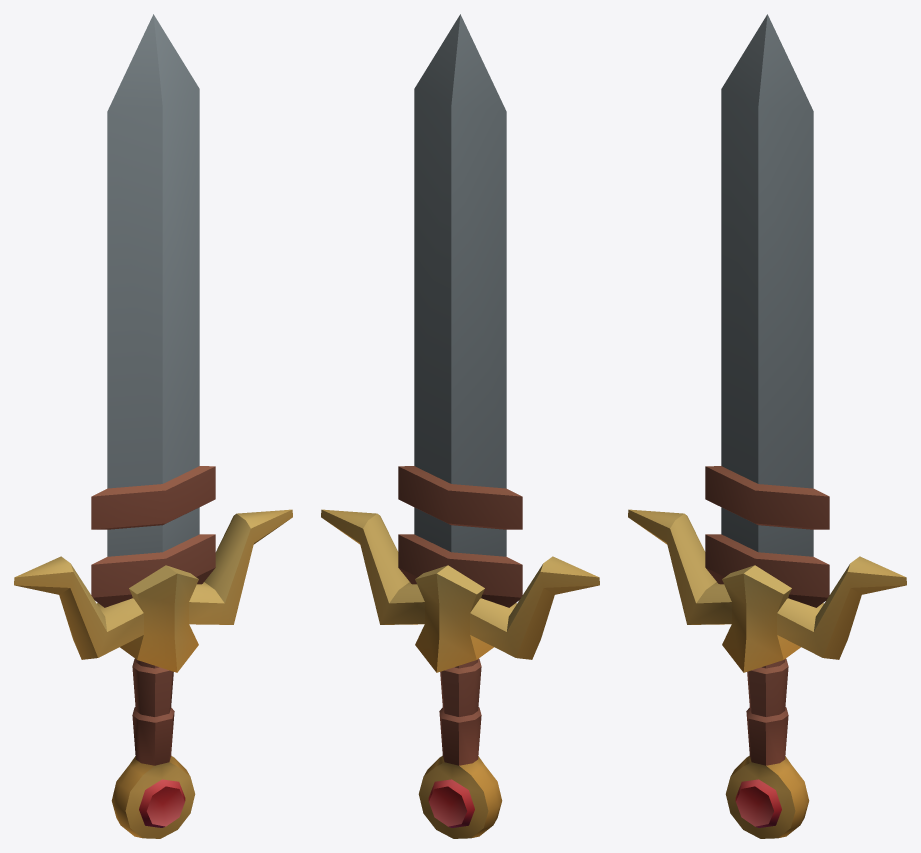
The model's file is XA_sword_2handed_color.glb.
The picture shows the model from 3 angles, left to right: view 1: azimuth 30°, elevation 25°; view 2: azimuth 150°, elevation 25°; view 3: azimuth 330°, elevation 25°; orthographic projection.
Parts seen in each view (by area): view 1: sword_2handed_color; view 2: sword_2handed_color; view 3: sword_2handed_color.
Part boxes in pixels (x1,y1,x2,y2): sword_2handed_color: (14,14,292,838); sword_2handed_color: (321,14,599,838); sword_2handed_color: (628,14,906,838).
Bounding box in the file's own units: 0.839 × 2.37 × 0.2481.
